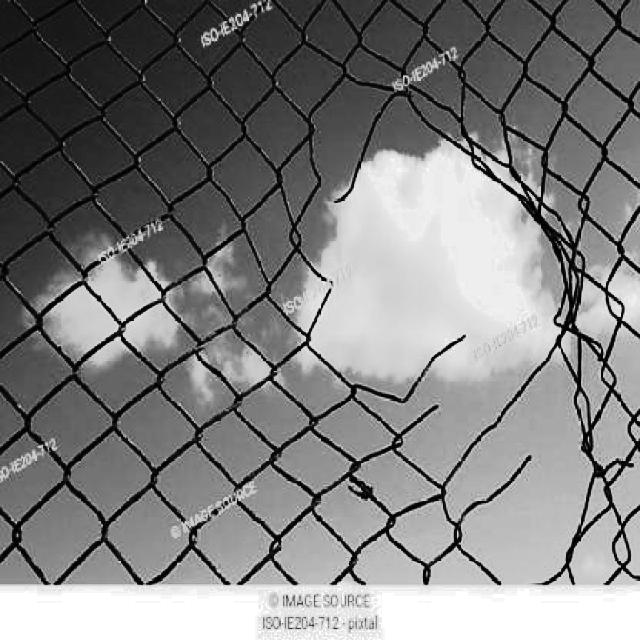anomaly-fence: (255, 32, 640, 571)
